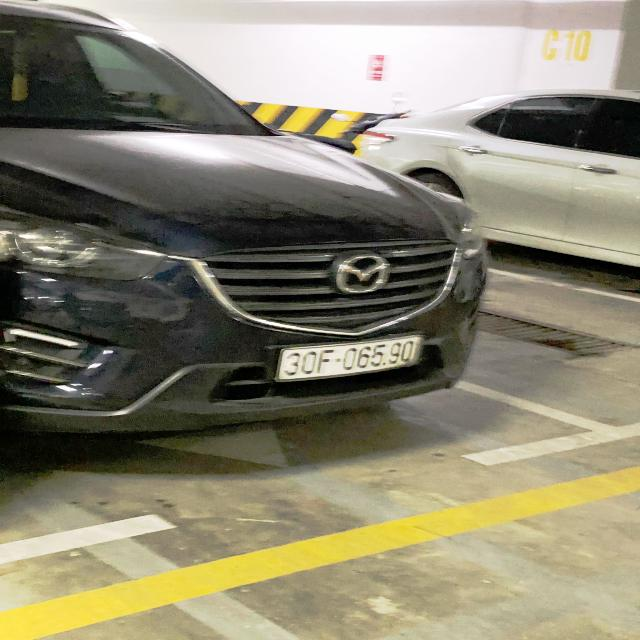license_plate: (276, 335, 425, 383)
